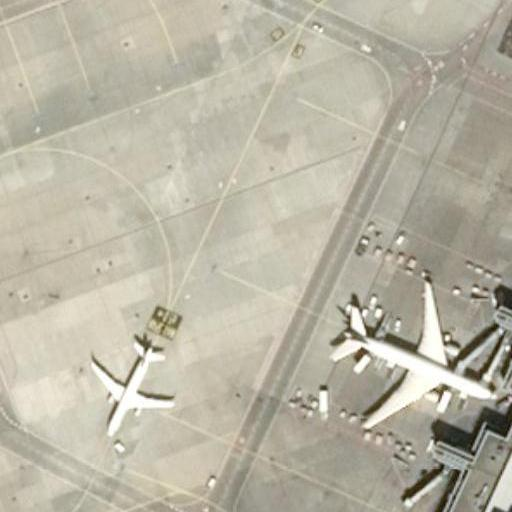Aircraft: (320, 262, 508, 441), (75, 325, 178, 446)
